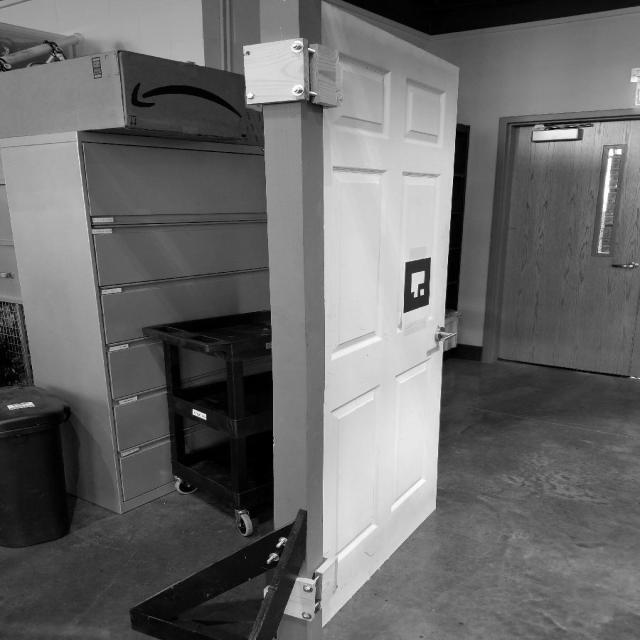door: (316, 1, 462, 640), (428, 329, 461, 348)
